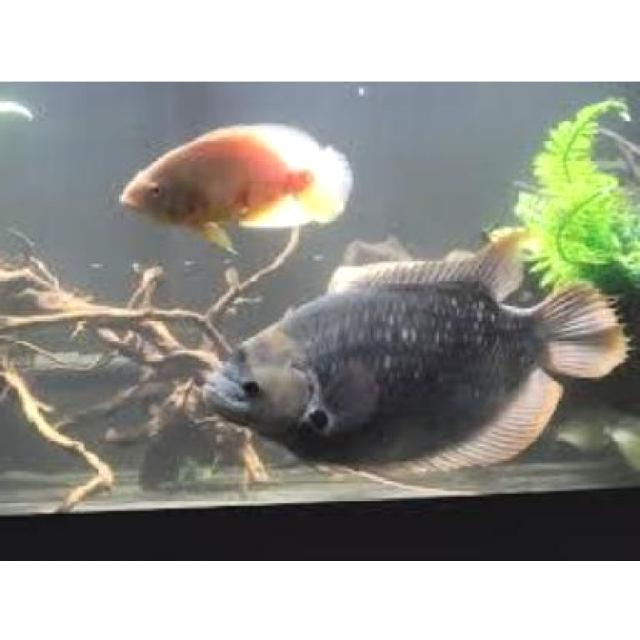gurame: (201, 238, 634, 482), (113, 116, 349, 238)
